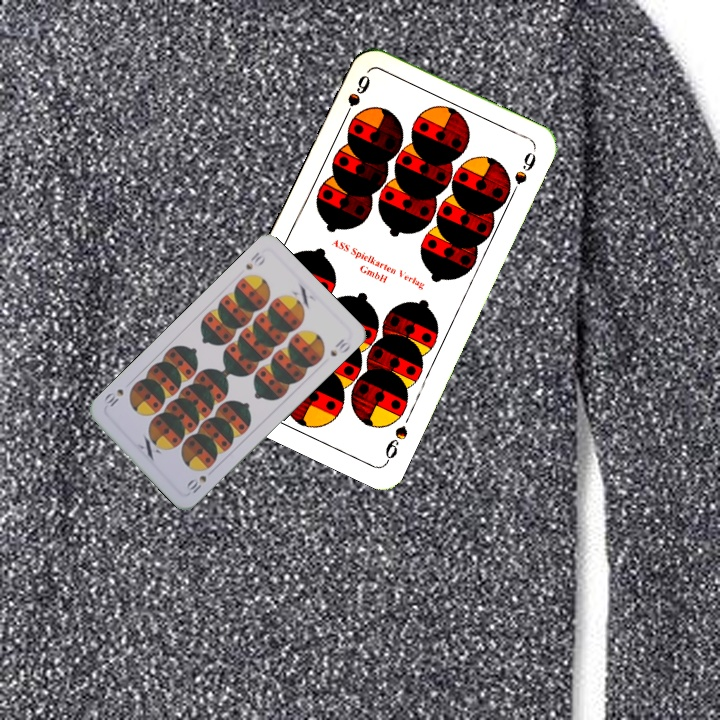S10: (182, 471, 209, 497), (241, 247, 268, 272)
S9: (338, 71, 373, 125), (381, 421, 410, 466)
